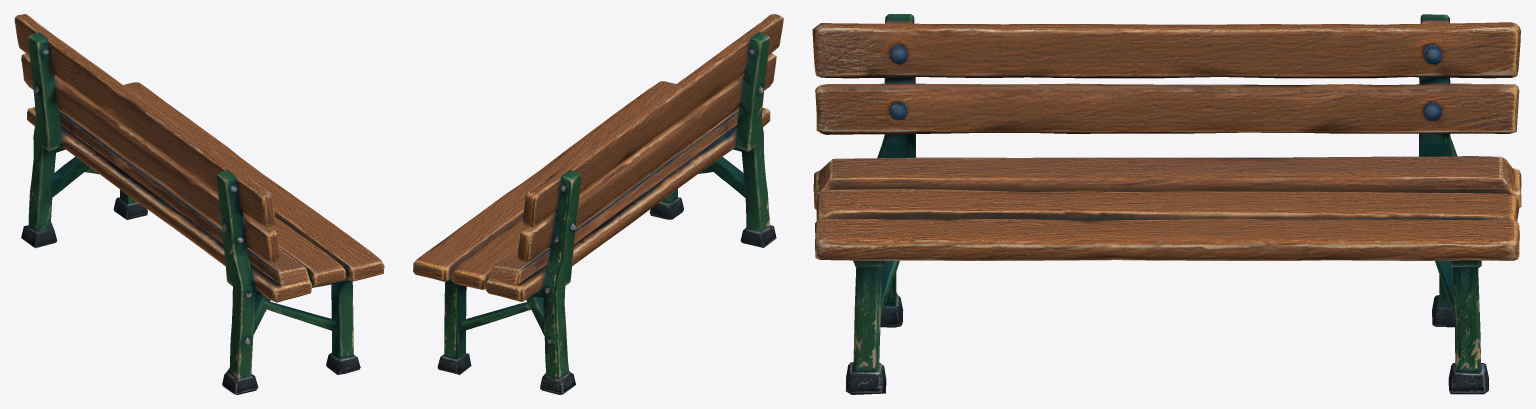
Rendered from HallBench.fbx.
3 views of the same model, side by side, from view 1: azimuth 30°, elevation 25°; view 2: azimuth 150°, elevation 25°; view 3: azimuth 270°, elevation 25° (orthographic). The views are drawn at different scales.
Parts seen in each view (by area): view 1: tripo_node_bcb54686-f1f0-43a7-ad4b-df66b7e7e89f; view 2: tripo_node_bcb54686-f1f0-43a7-ad4b-df66b7e7e89f; view 3: tripo_node_bcb54686-f1f0-43a7-ad4b-df66b7e7e89f.
Boxes of the visible parts, left/top/right/bottom form: tripo_node_bcb54686-f1f0-43a7-ad4b-df66b7e7e89f: left=14, top=14, right=384, bottom=394; tripo_node_bcb54686-f1f0-43a7-ad4b-df66b7e7e89f: left=413, top=14, right=783, bottom=394; tripo_node_bcb54686-f1f0-43a7-ad4b-df66b7e7e89f: left=812, top=14, right=1521, bottom=394.
Bounding box in the file's own units: 31.47 × 46.71 × 100.
Materials: 1 (1 with a texture image).
